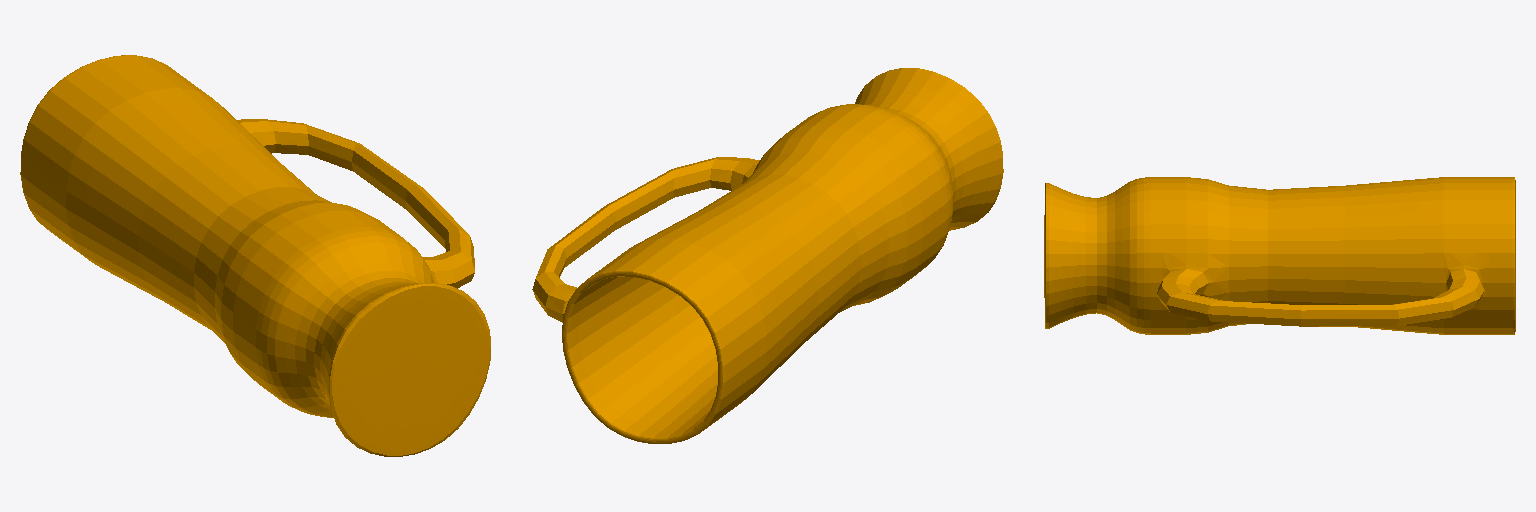
The robot description file, URDF, robot "285":
<?xml version="1.0" ?>
<robot name="285">
  <link name="body">
    <visual>
      <geometry>
        <mesh filename="../shapes/285.obj"/>
      </geometry>
    </visual>
    <collision>
      <geometry>
        <mesh filename="../shapes/285.obj"/>
      </geometry>
    </collision>
  </link>
</robot>

--- What the picture shows (computed from the rendered views, not written in the file) ---
Views: 3 orthographic renders of the robot side by side, from view 1: azimuth 30°, elevation 25°; view 2: azimuth 150°, elevation 25°; view 3: azimuth 270°, elevation 25°.
Model 285 with 1 links and 0 joints (none), rooted at body, posed every joint at zero.
Links seen in each view (by area): view 1: body; view 2: body; view 3: body.
Link boxes in pixels (x1,y1,x2,y2): body: (20,55,490,456); body: (532,68,1003,443); body: (1044,177,1515,334).
Size in the robot's own frame: 3.75 by 7.39 by 2.42 metres.
1 mesh visuals loaded from 1 distinct referenced files (1 OBJ).